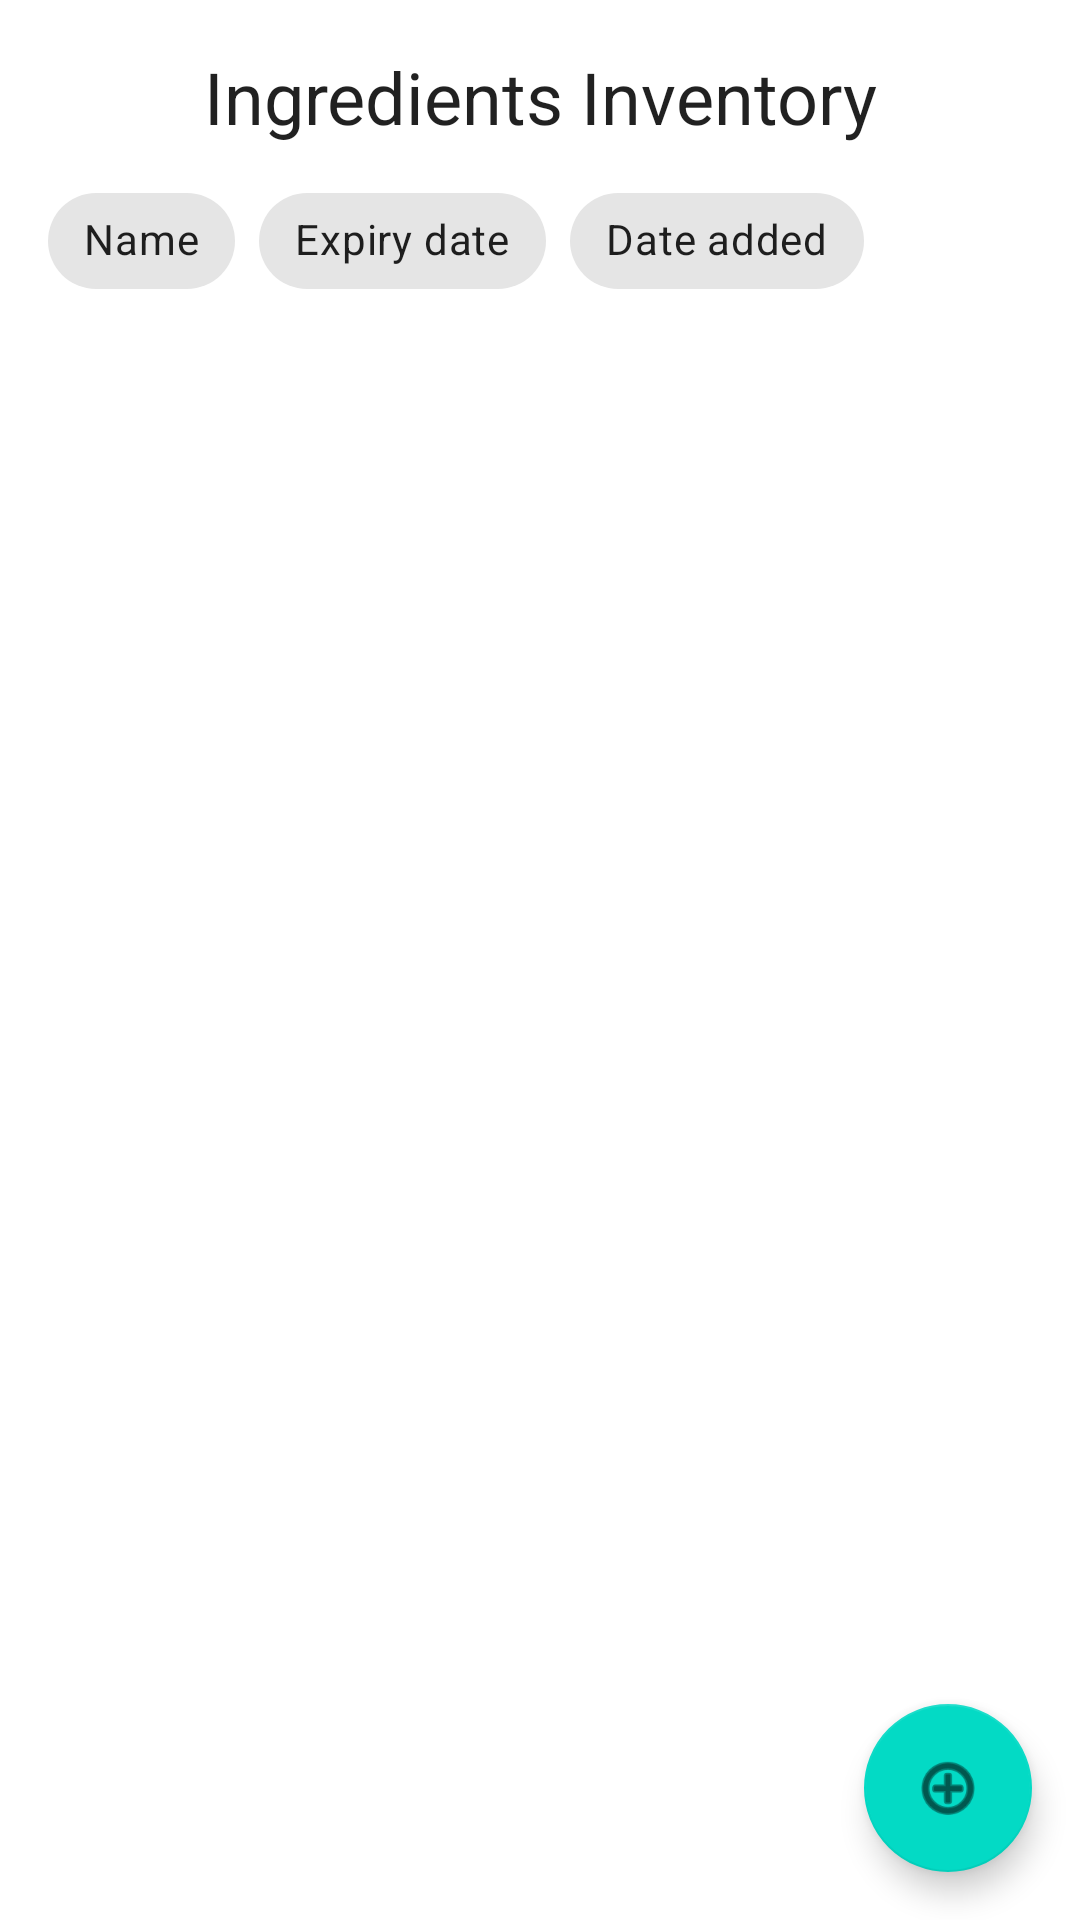

Icon click points for this 1080px×1920px phone screenshot, format [x,y]:
Add Ingredients: [948,1788]
